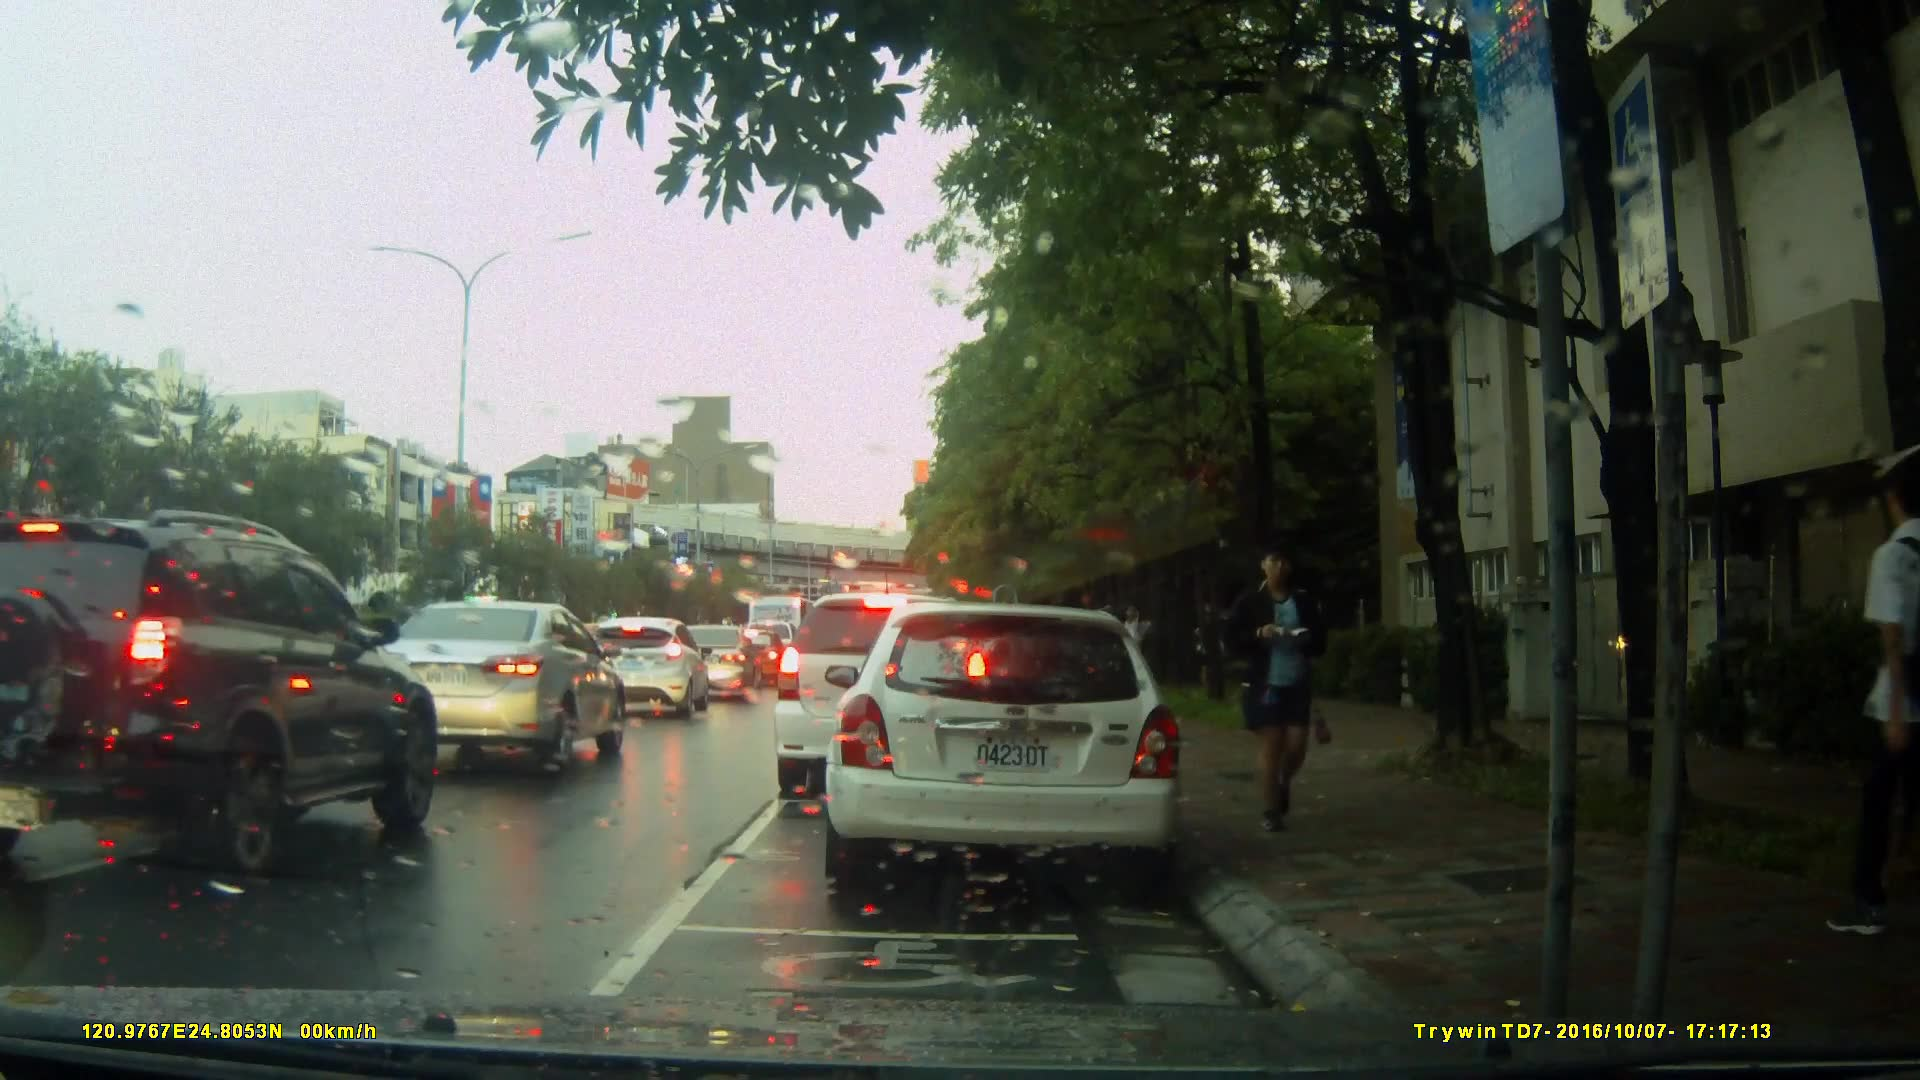pedestrian: (1214, 545, 1356, 840), (1852, 453, 1919, 950), (1114, 588, 1155, 730)
vehicle: (6, 508, 442, 891), (815, 593, 1198, 893), (770, 590, 995, 802), (366, 600, 630, 776), (579, 614, 712, 721), (673, 624, 758, 697)
